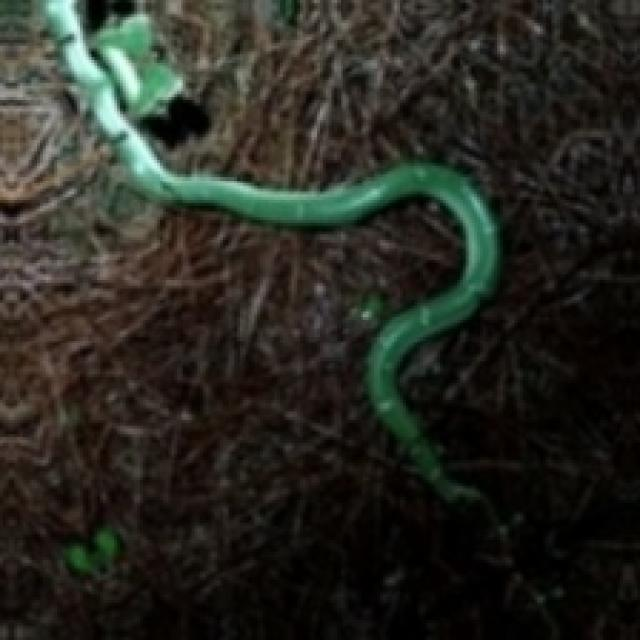north ph temple pitviper: (40, 0, 497, 500)
